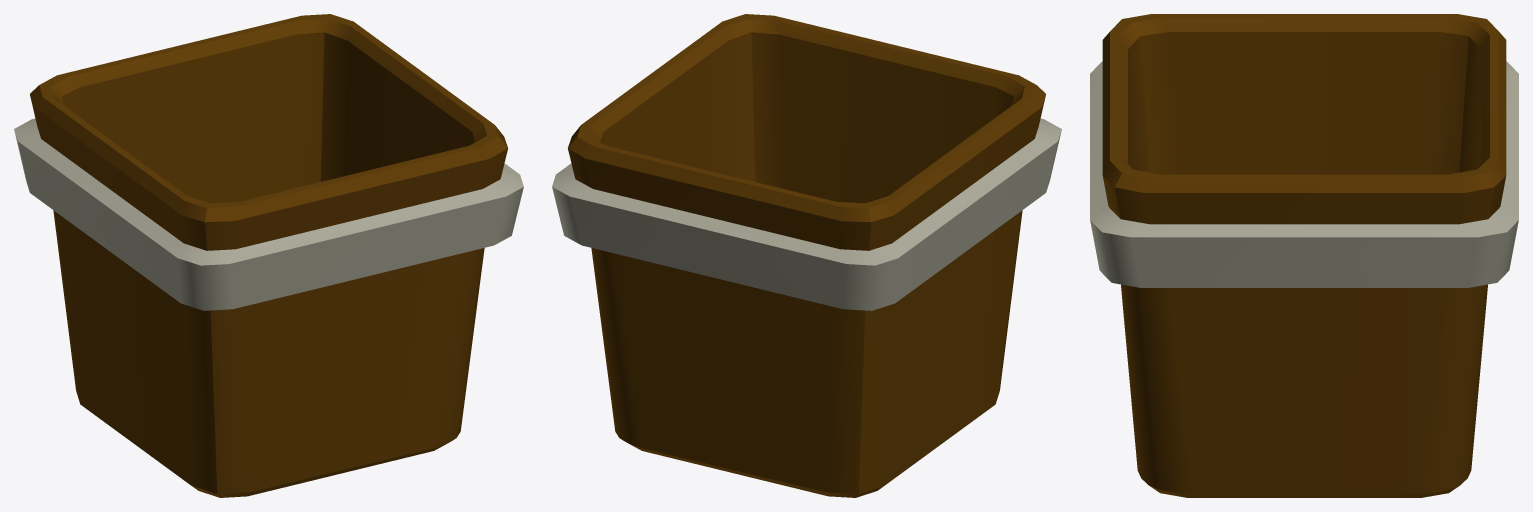
File: MSH_int_Bucket.fbx
3 views of the same model, side by side, from view 1: azimuth 30°, elevation 25°; view 2: azimuth 150°, elevation 25°; view 3: azimuth 270°, elevation 25° (orthographic). The views are drawn at different scales.
Visible parts, largest first — view 1: Bucket; view 2: Bucket; view 3: Bucket.
Part boxes in pixels (<box>): Bucket: <box>14,14,523,497</box>; Bucket: <box>552,14,1061,497</box>; Bucket: <box>1090,14,1518,497</box>.
Bounding box in the file's own units: 3.06 × 2.65 × 3.06.
